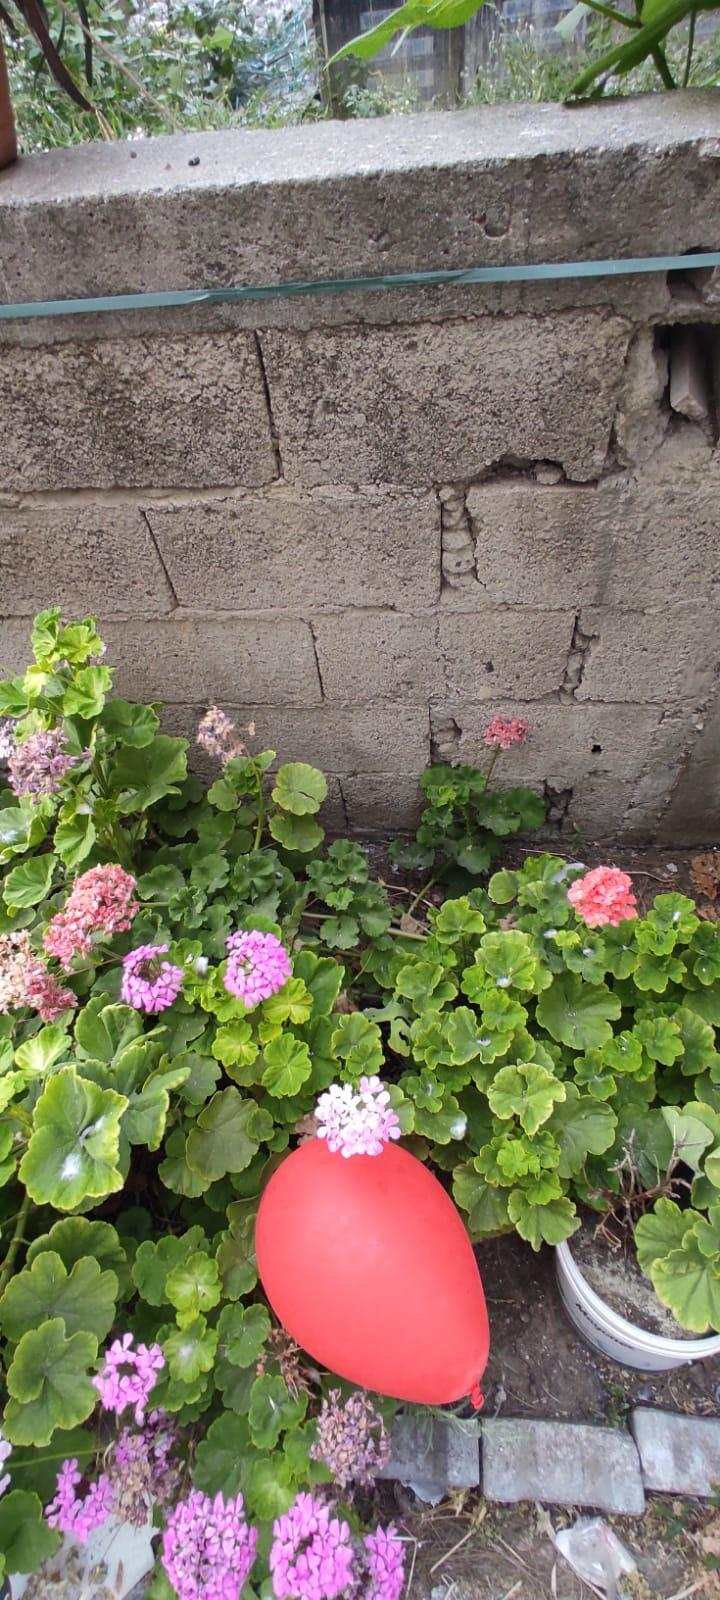red: (247, 1149, 485, 1416)
